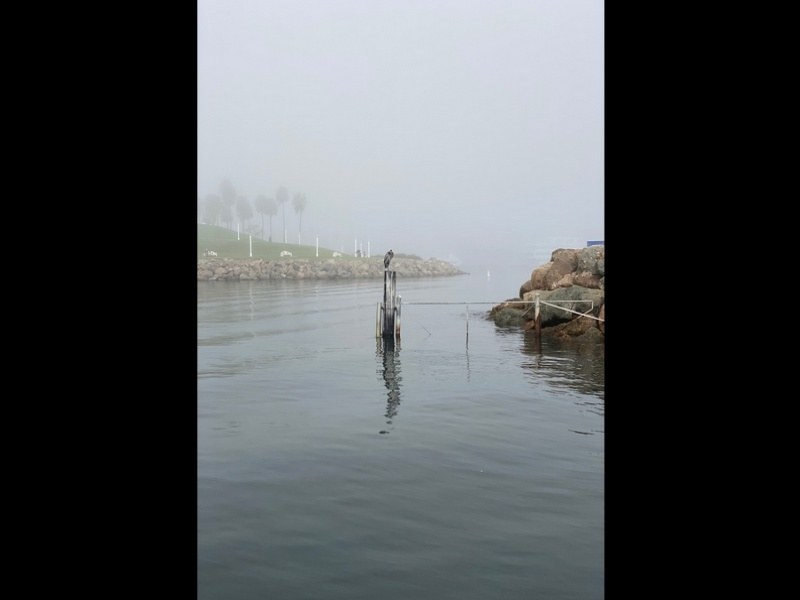heron: (381, 247, 399, 271)
